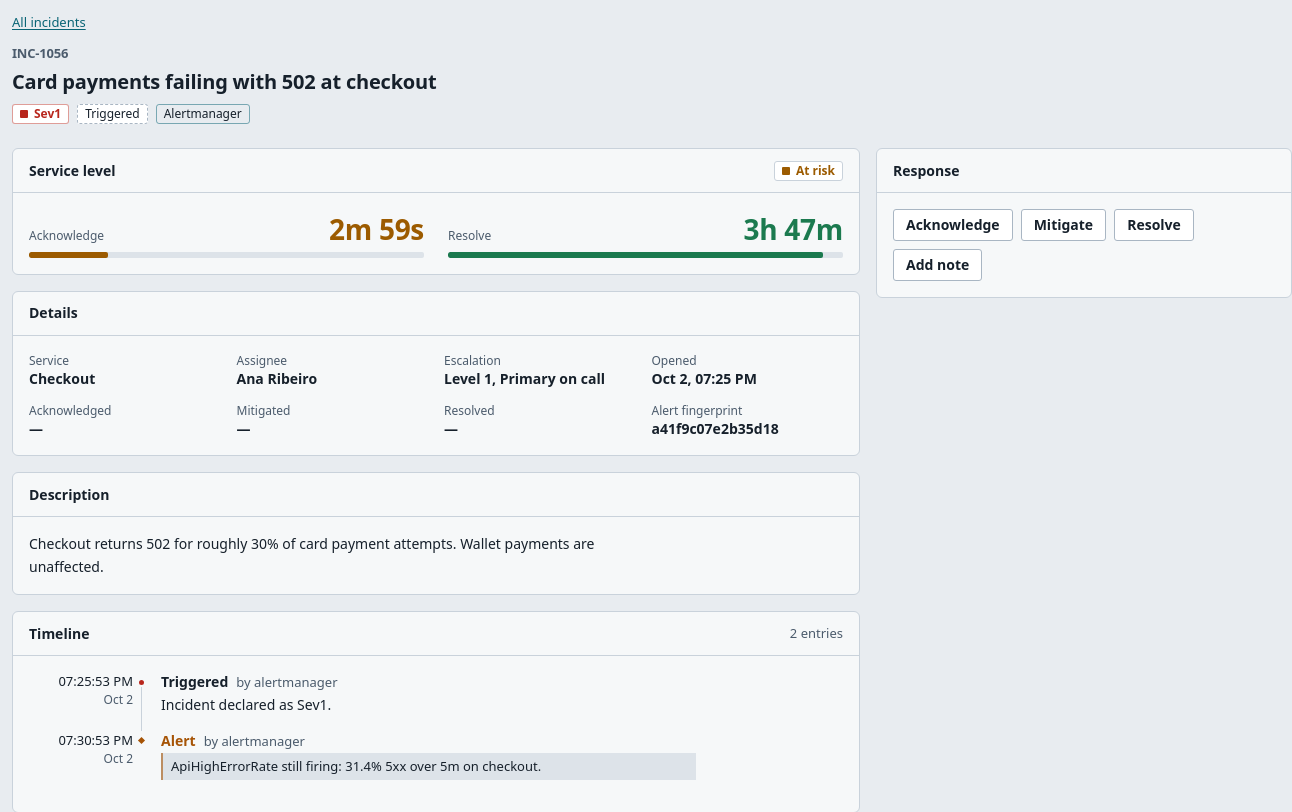
IncidentDetailPage › explains a conflict returned by the API
Click the button "Acknowledge" at coordinates (953, 226), box left=893, top=210, right=1013, bottom=242
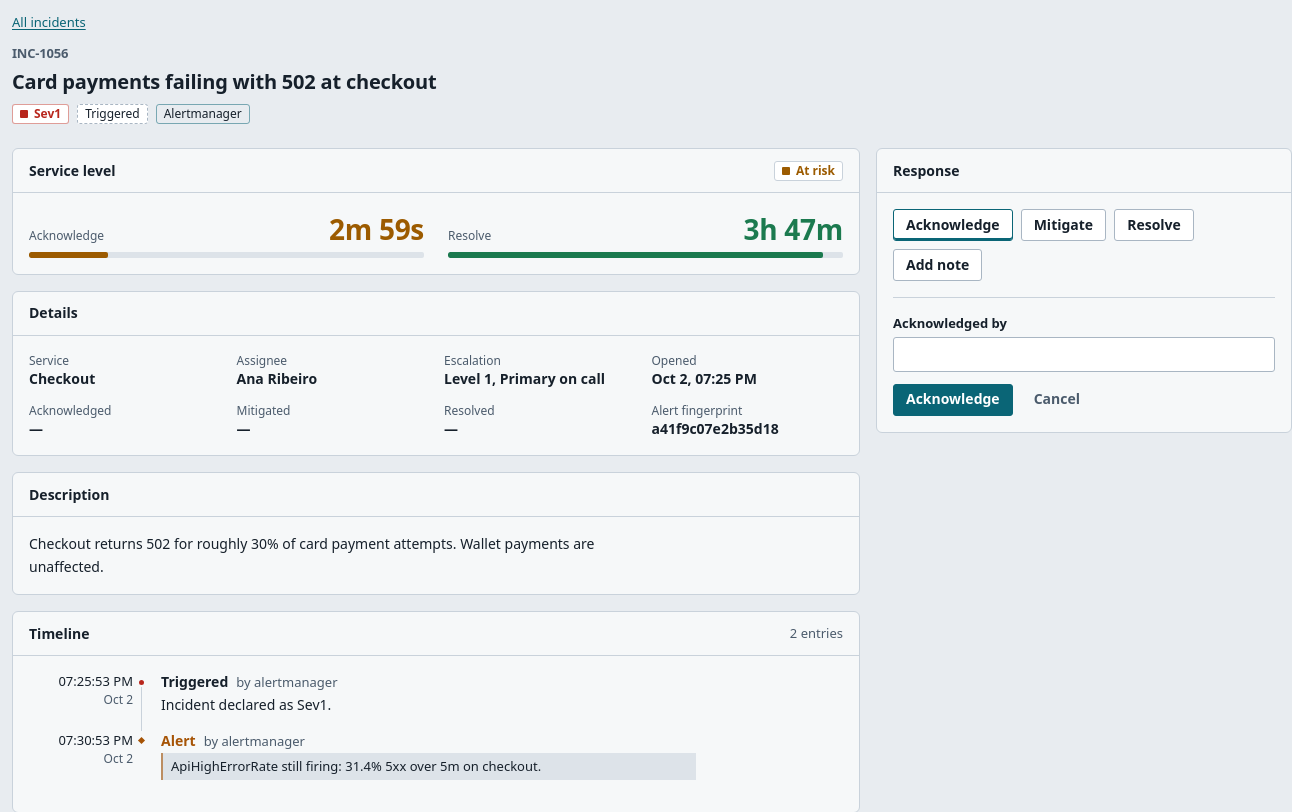
Type "Ana Ribeiro" into the field labelled "Acknowledged by" at coordinates (1084, 354), box left=893, top=337, right=1275, bottom=372
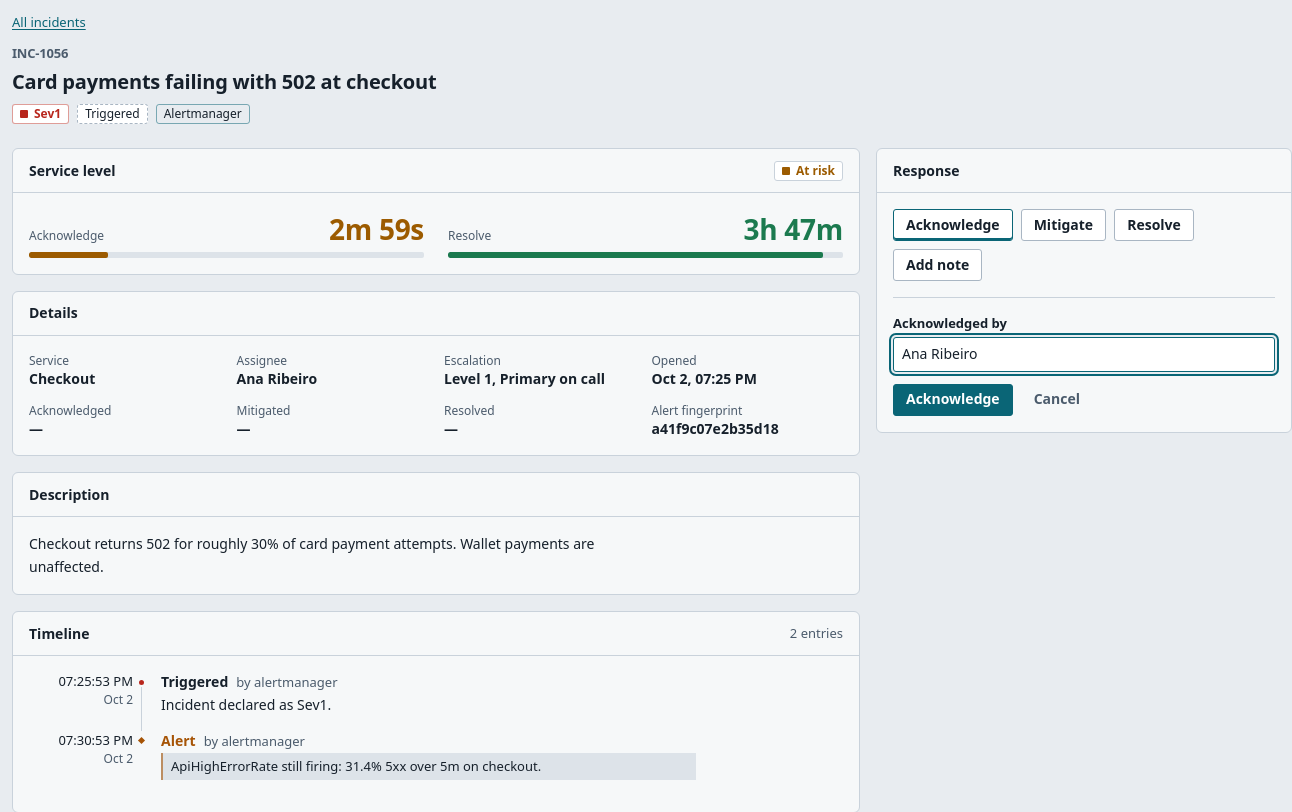
Click the button "Acknowledge" below "Acknowledged by" at coordinates (953, 400), box left=893, top=384, right=1013, bottom=416
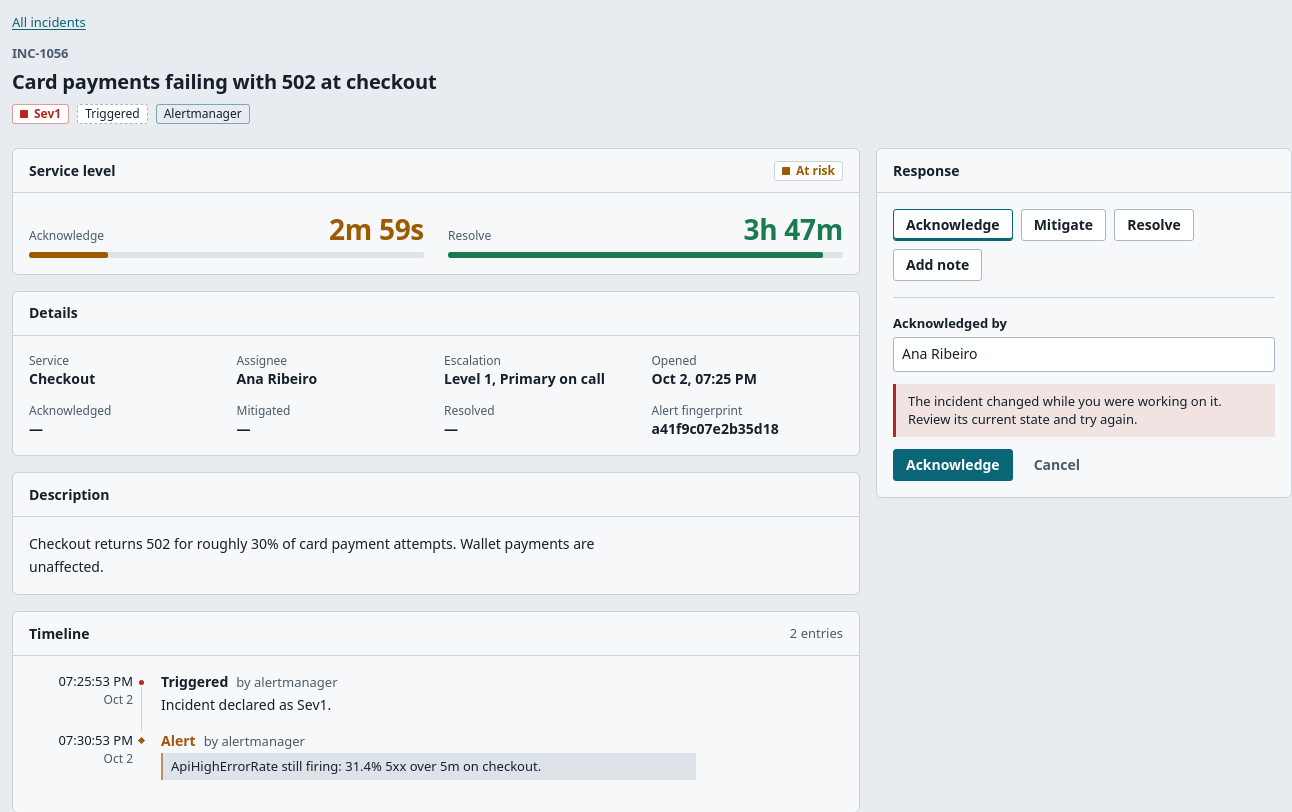
Expected: the message shows "changed while you were working", left=908, top=392, right=1222, bottom=428
